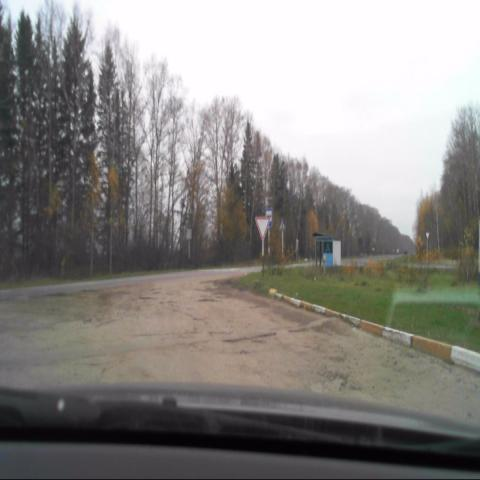2_4: (255, 216, 268, 239)
